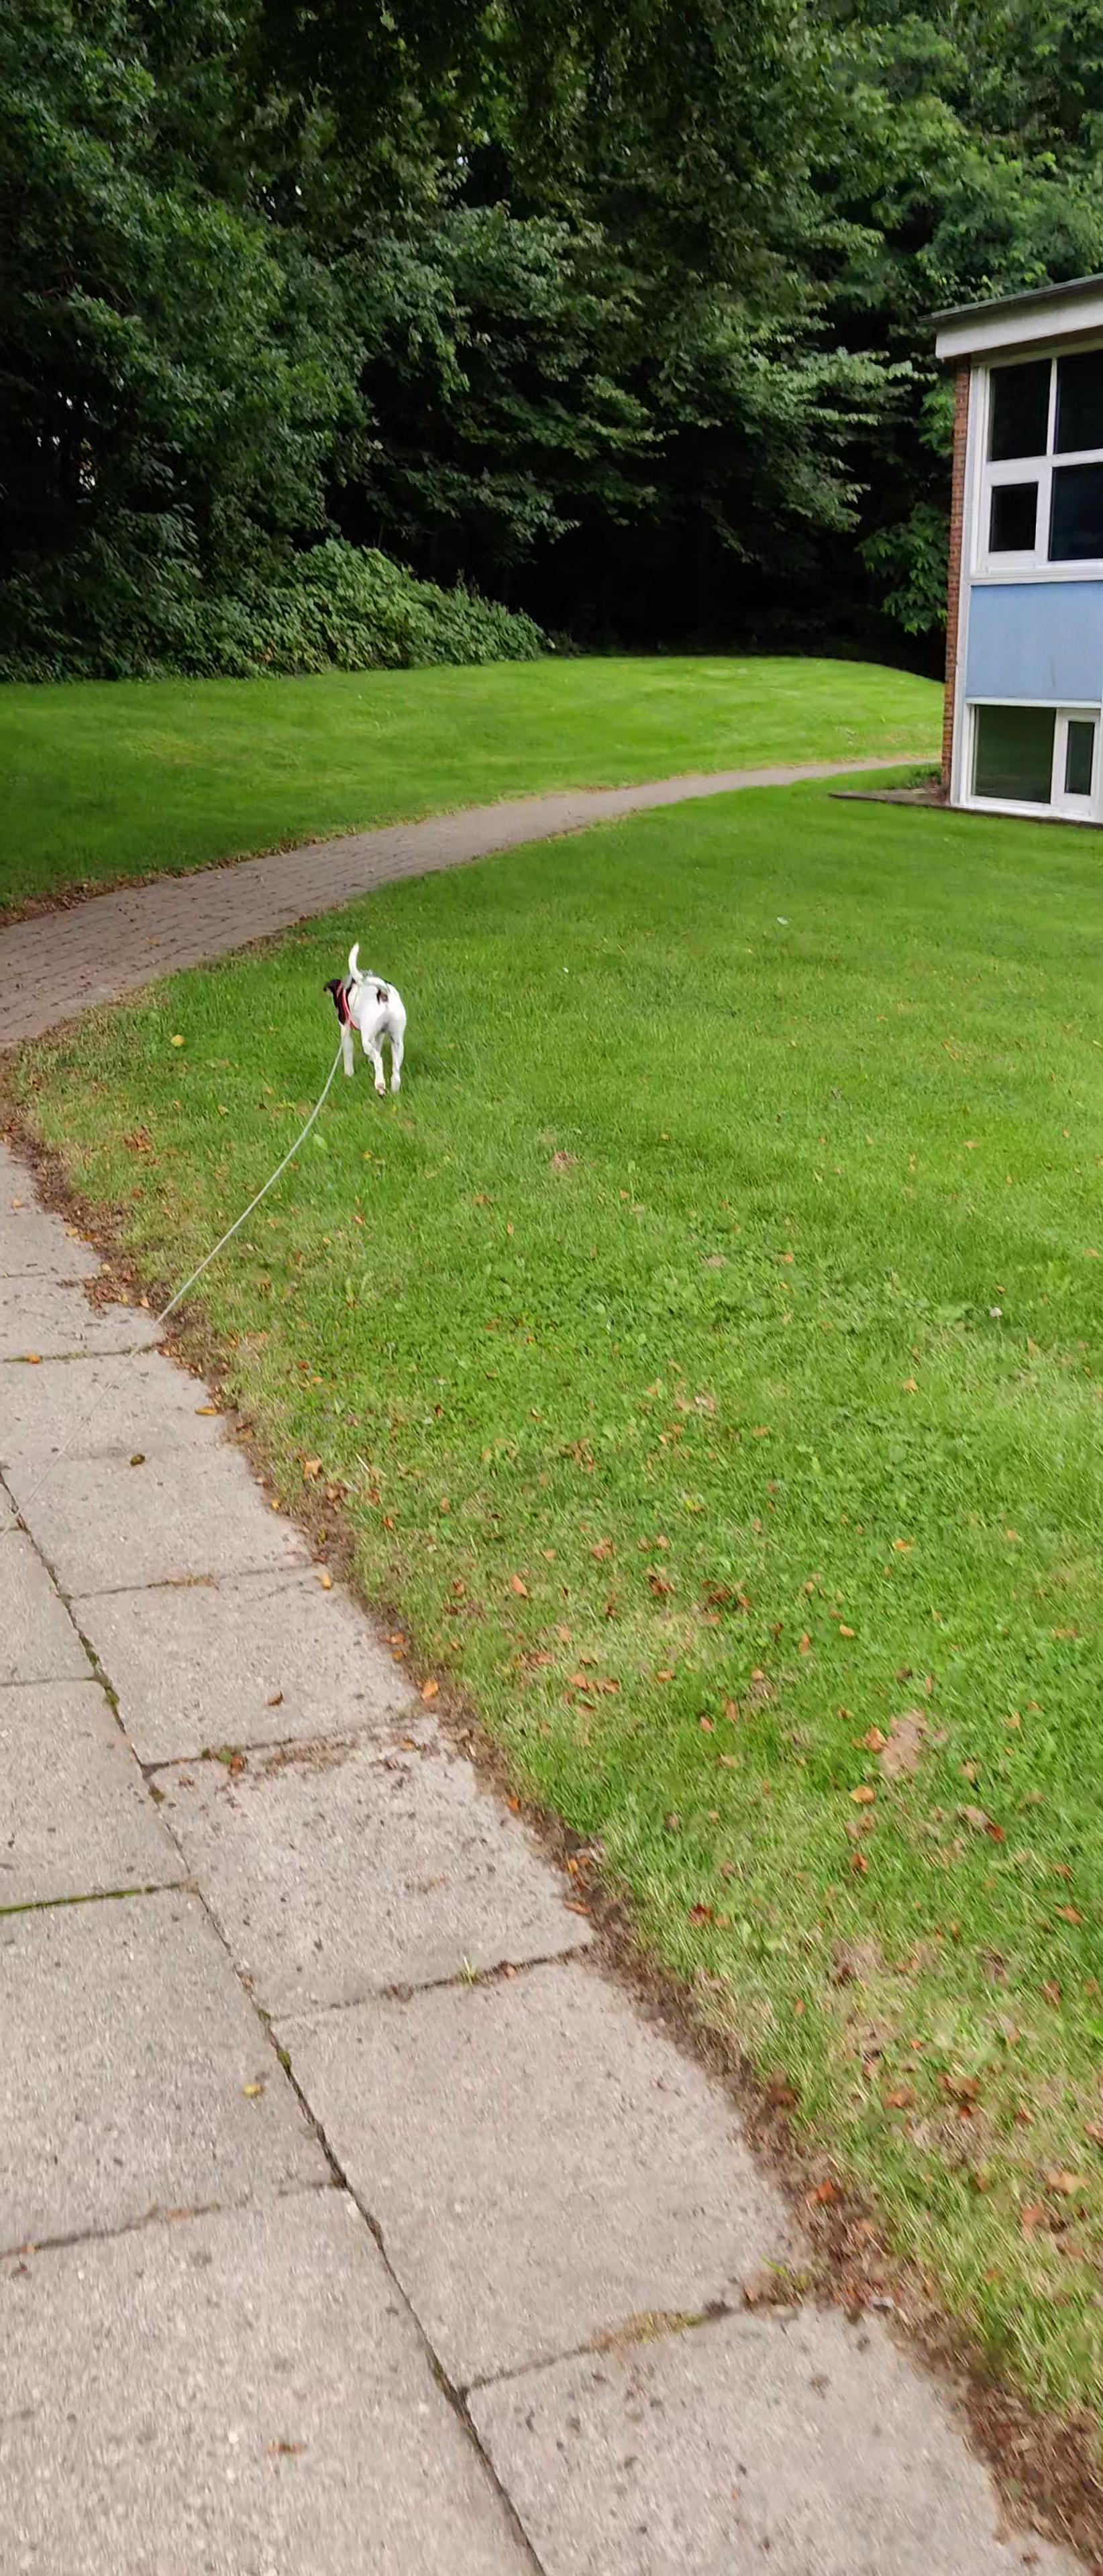Dog: (314, 936, 431, 1099)
